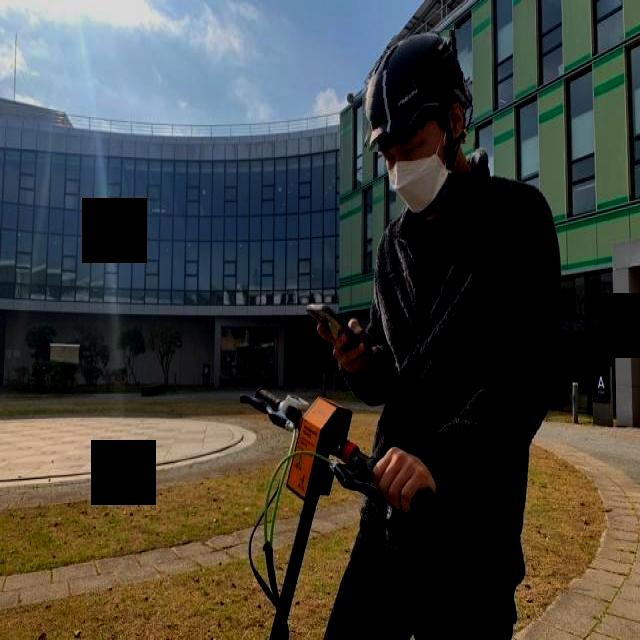helmet: (360, 31, 473, 150)
